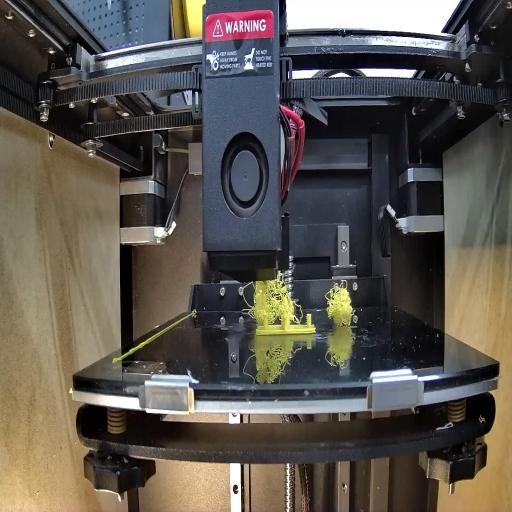spaghetti: (242, 270, 301, 322), (322, 277, 358, 330)
